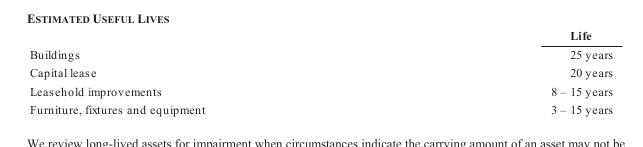table: (28, 28, 612, 116)
table column: (28, 28, 377, 116), (377, 28, 612, 116)
table column header: (28, 28, 612, 44)
table row: (28, 62, 612, 81), (28, 81, 612, 100), (28, 44, 612, 62), (28, 28, 612, 44), (28, 100, 612, 116)
